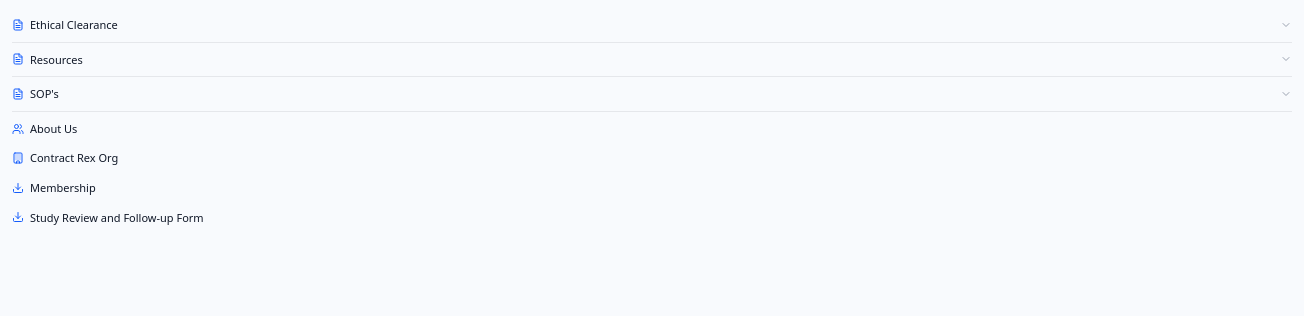
PagesDropdown › collapses Ethical Clearance section
Click the button "Ethical Clearance".
click(74, 24)  # box [12,12,1292,38]
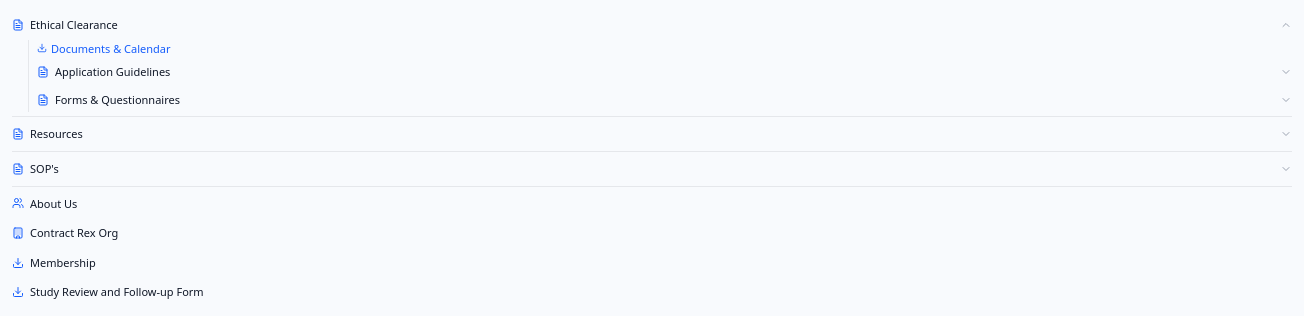
Click the button "Ethical Clearance".
click(74, 24)  # box [12,12,1292,38]
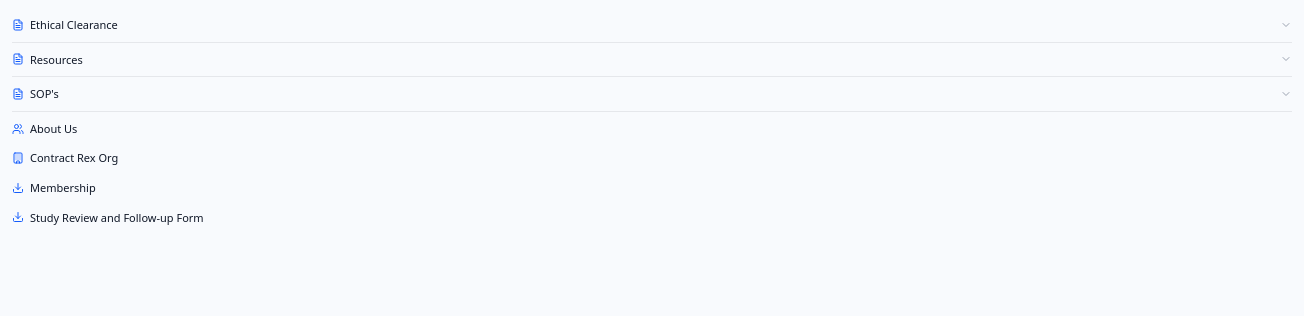
Now the link "Documents & Calendar" is gone
